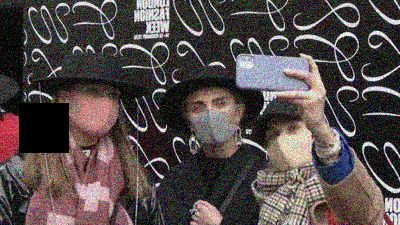with_mask: (264, 117, 313, 171), (186, 95, 235, 148), (69, 84, 119, 135)
